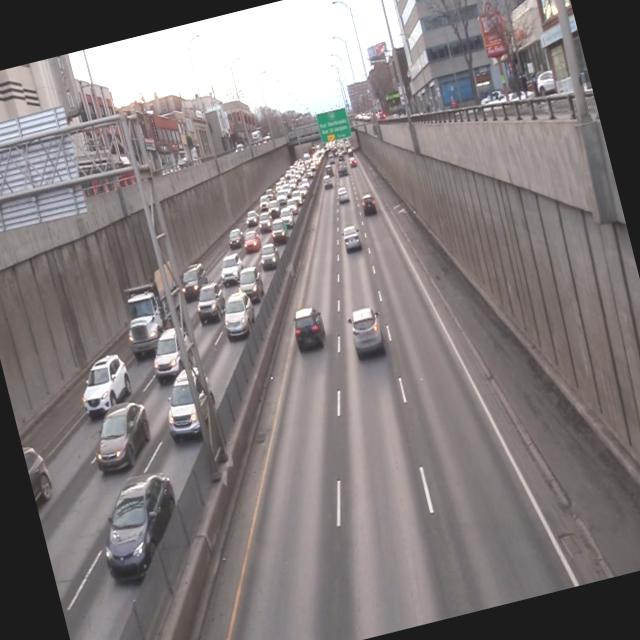Vehicle: (86, 465, 196, 592), (81, 396, 166, 479), (156, 364, 222, 448), (72, 349, 138, 419), (21, 437, 64, 532), (144, 322, 200, 382), (342, 300, 390, 362), (287, 298, 331, 356), (216, 290, 262, 342), (189, 276, 229, 330), (338, 224, 364, 256)
